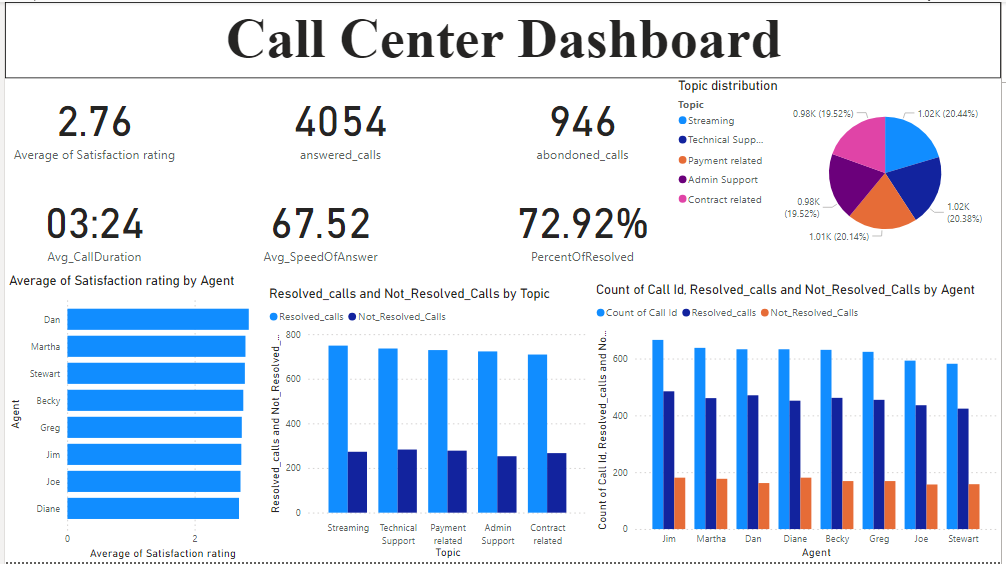

The dashboard page shown, as its layout file describes it:
{"tool":"powerbi","page":{"name":"Page 1","canvas":[1280,720],"ordinal":0},"visuals":[{"type":"card","fields":{"Values":["Sheet1.Satisfaction rating"]},"box":[0,98.1,230,119],"z":0},{"type":"card","fields":{"Values":["Sheet1.answered_calls"]},"box":[315.8,98.1,230,119],"z":1000},{"type":"card","fields":{"Values":["Sheet1.abondoned_calls"]},"box":[627.6,98.1,230,119],"z":2000},{"type":"card","fields":{"Values":["Sheet1.Avg"]},"box":[0,229.2,230,119],"z":3000},{"type":"card","fields":{"Values":["Sheet1.Avg_SpeedOfAnswer"]},"box":[290.9,229.2,230,119],"z":4000},{"type":"clusteredColumnChart","fields":{"Category":["Sheet1.Agent"],"Y":["Sheet1.Call Id","Sheet1.Resolved_calls","Sheet1.Not_Resolved_Calls"]},"box":[754.4,359.6,525.6,360.9],"z":5000},{"type":"clusteredBarChart","fields":{"Category":["Sheet1.Agent"],"Y":["Sheet1.Satisfaction rating"]},"box":[0,347.8,334.7,372.6],"z":6000},{"type":"pieChart","title":"Topic distribution","fields":{"Category":["Sheet1.Topic"],"Y":["Sheet1.Topic"]},"box":[860.3,98.1,419.7,224.9],"z":7000},{"type":"clusteredColumnChart","fields":{"Category":["Sheet1.Topic"],"Y":["Sheet1.Resolved_calls","Sheet1.Not_Resolved_Calls"]},"box":[334.7,364.8,419.7,355.6],"z":8000},{"type":"textbox","box":[0,0,1280,98.1],"z":9000},{"type":"card","fields":{"Values":["Sheet1.PercentOfResolved"]},"box":[627.6,228.8,230.1,119],"z":10000}]}

Visuals, with their boxes in screenshot pixels (x1, y1, x2, y2), scaled from the page's 1280x720 canvas onto the 1006x564 screenshot:
card - Sheet1.Satisfaction rating: x1=0 y1=77 x2=181 y2=170
card - Sheet1.answered_calls: x1=248 y1=77 x2=429 y2=170
card - Sheet1.abondoned_calls: x1=493 y1=77 x2=674 y2=170
card - Sheet1.Avg: x1=0 y1=180 x2=181 y2=273
card - Sheet1.Avg_SpeedOfAnswer: x1=229 y1=180 x2=409 y2=273
clusteredColumnChart - Sheet1.Agent x Sheet1.Call Id: x1=593 y1=282 x2=1005 y2=563
clusteredBarChart - Sheet1.Agent x Sheet1.Satisfaction rating: x1=0 y1=272 x2=263 y2=563
"Topic distribution" pieChart: x1=676 y1=77 x2=1005 y2=253
clusteredColumnChart - Sheet1.Topic x Sheet1.Resolved_calls: x1=263 y1=286 x2=593 y2=563
textbox: x1=0 y1=0 x2=1005 y2=77
card - Sheet1.PercentOfResolved: x1=493 y1=179 x2=674 y2=272
